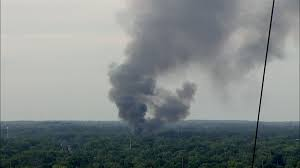smoke: (104, 1, 300, 137)
